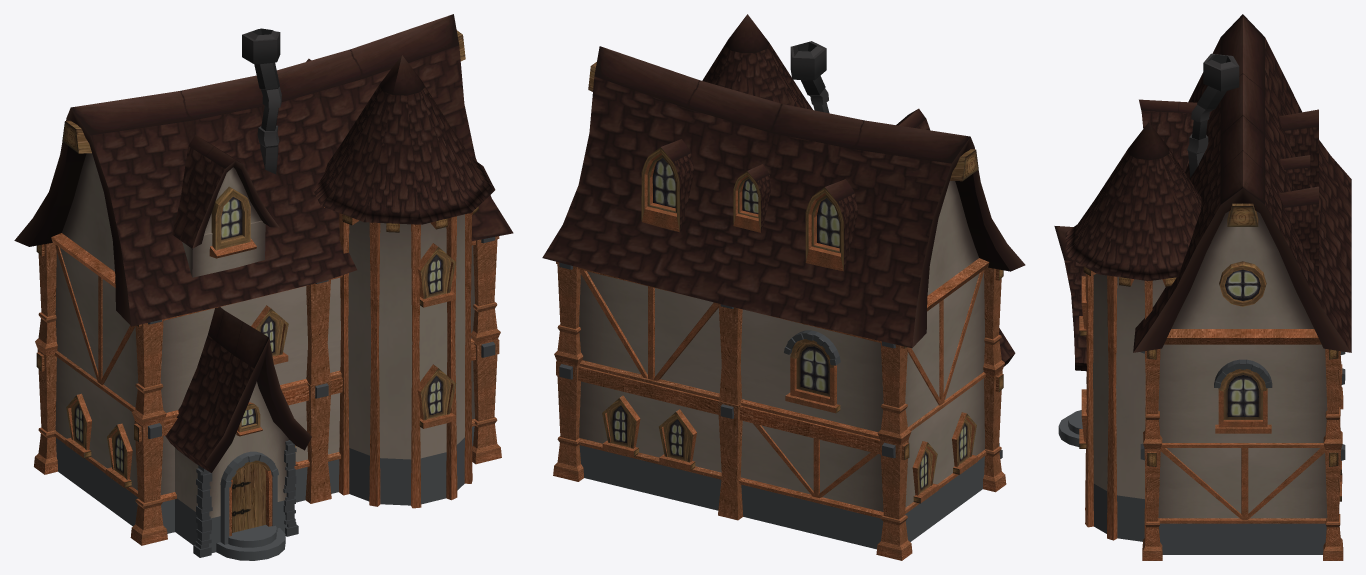
File: fanasty_mod_village_building23.fbx
3 renders of one model, left to right at view 1: azimuth 30°, elevation 25°; view 2: azimuth 150°, elevation 25°; view 3: azimuth 270°, elevation 25°, orthographic. The views are drawn at different scales.
Visible parts, largest first — view 1: village_building_023; view 2: village_building_023; view 3: village_building_023.
Part boxes in pixels (x1,y1,x2,y2): village_building_023: (14, 14, 513, 560); village_building_023: (542, 14, 1025, 560); village_building_023: (1054, 14, 1351, 560).
Bounding box in the file's own units: 12.57 × 13.78 × 8.98.
